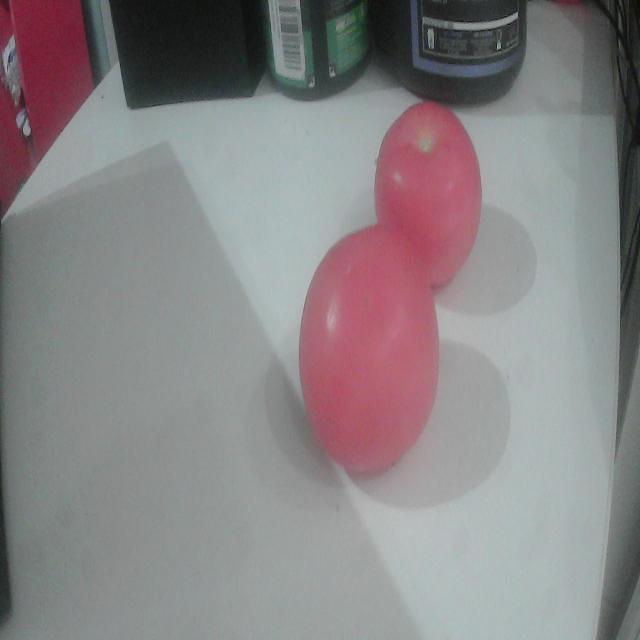Tomato: (300, 224, 438, 475), (375, 103, 481, 289)
